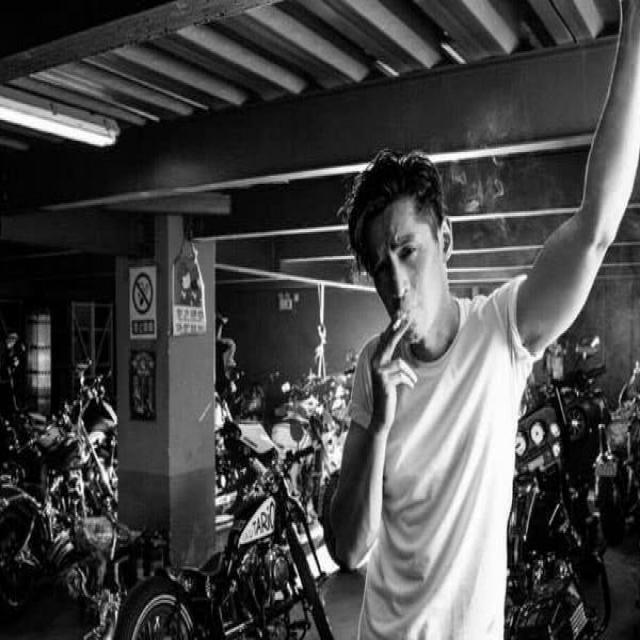cigarette: (390, 313, 405, 339)
